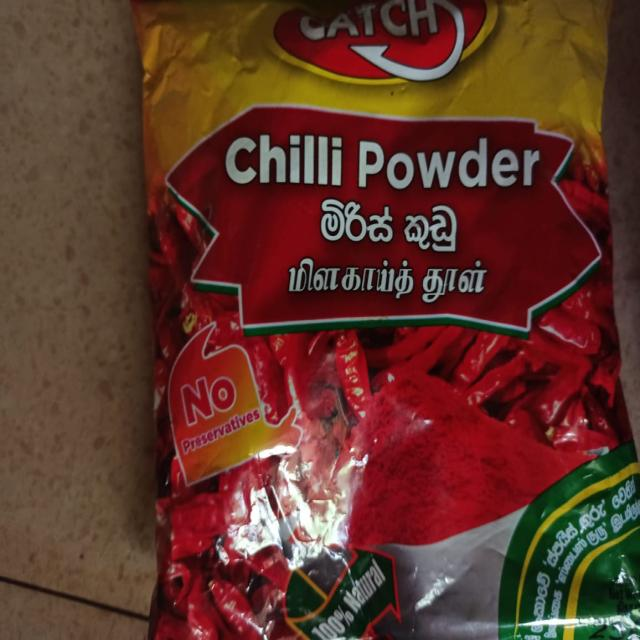Chilli Powder: (117, 1, 640, 640)
